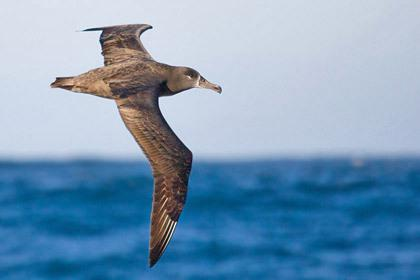001.Black_footed_Albatross: (50, 25, 222, 270)
